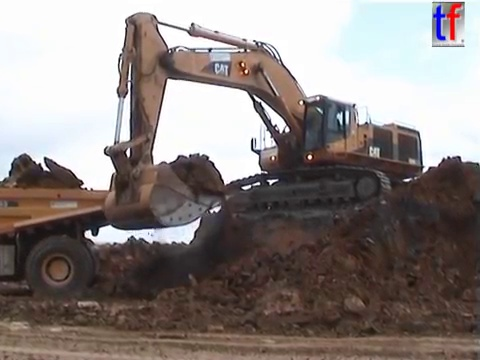excavator: (99, 9, 429, 233)
truck: (1, 182, 157, 305)
